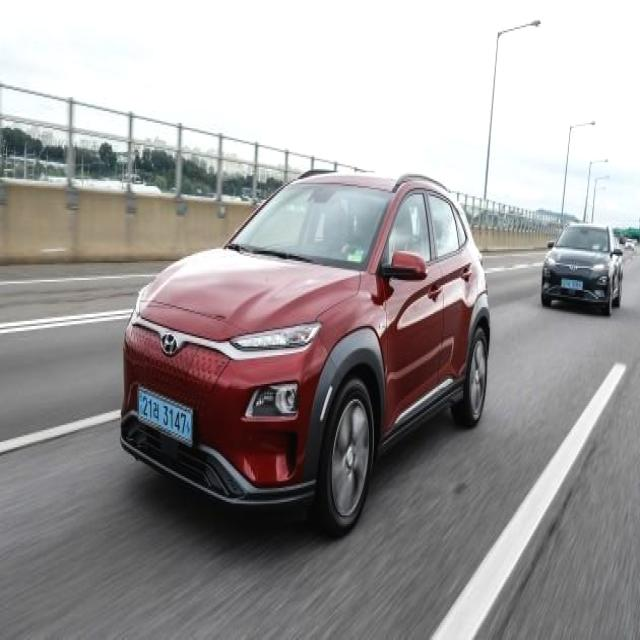EV_plate: (134, 385, 198, 449)
car: (118, 163, 491, 532)
